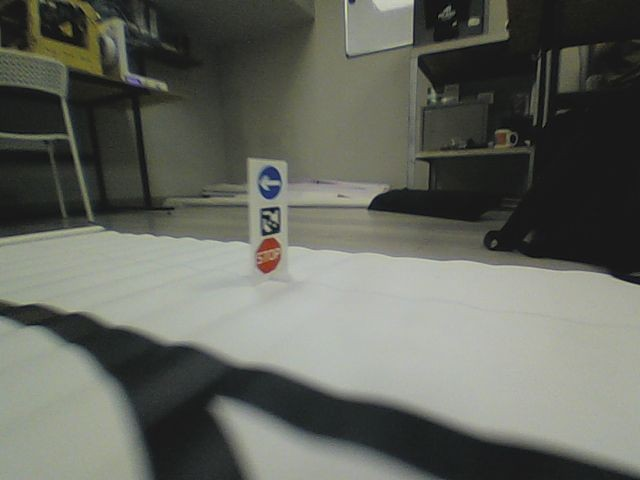Stop: (254, 235, 282, 275)
